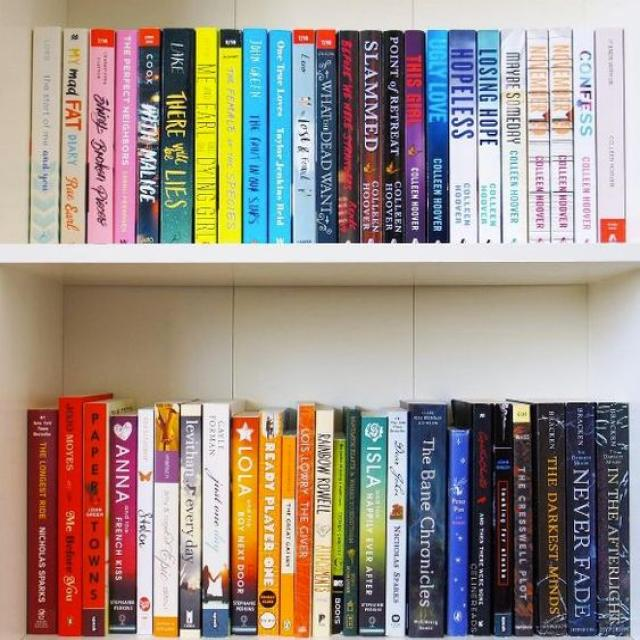book: (409, 403, 448, 637), (597, 403, 630, 636), (28, 27, 62, 244), (537, 403, 568, 634), (568, 402, 597, 636), (161, 28, 192, 242), (202, 404, 230, 637), (27, 410, 56, 634), (596, 30, 625, 243), (60, 29, 89, 242), (230, 417, 258, 635), (359, 418, 387, 635), (87, 28, 115, 243), (449, 30, 477, 244), (110, 416, 136, 634), (154, 401, 178, 637), (470, 403, 494, 635), (83, 402, 106, 636), (217, 29, 242, 242), (59, 397, 81, 636), (311, 410, 334, 636), (384, 412, 407, 637), (114, 30, 138, 244), (513, 404, 535, 637), (503, 31, 527, 243), (477, 30, 501, 242), (292, 31, 316, 242), (244, 28, 267, 242), (137, 30, 160, 244), (258, 412, 280, 635), (294, 404, 315, 637), (359, 30, 382, 242), (180, 405, 201, 637), (447, 429, 470, 637), (270, 29, 292, 244), (574, 30, 596, 244), (551, 29, 573, 243), (426, 30, 448, 244), (382, 30, 404, 243), (316, 30, 338, 243), (493, 403, 513, 637), (195, 28, 216, 244), (405, 30, 426, 243), (339, 29, 359, 242), (529, 30, 549, 242), (342, 409, 360, 635), (279, 437, 296, 637), (138, 410, 152, 635), (332, 438, 346, 633)
